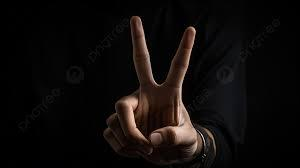scissors: (102, 14, 208, 158)
